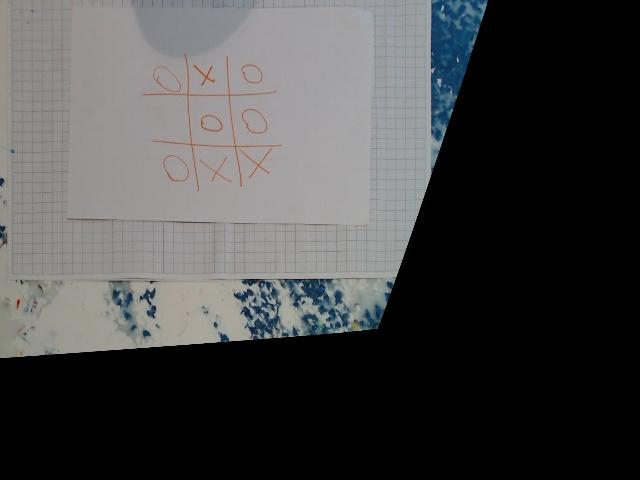O: (160, 152, 191, 188), (150, 63, 184, 95), (198, 112, 226, 139), (240, 108, 270, 133), (242, 60, 266, 88)
X: (200, 155, 231, 188), (243, 150, 273, 179), (193, 63, 217, 88)
grid: (146, 48, 289, 193)
